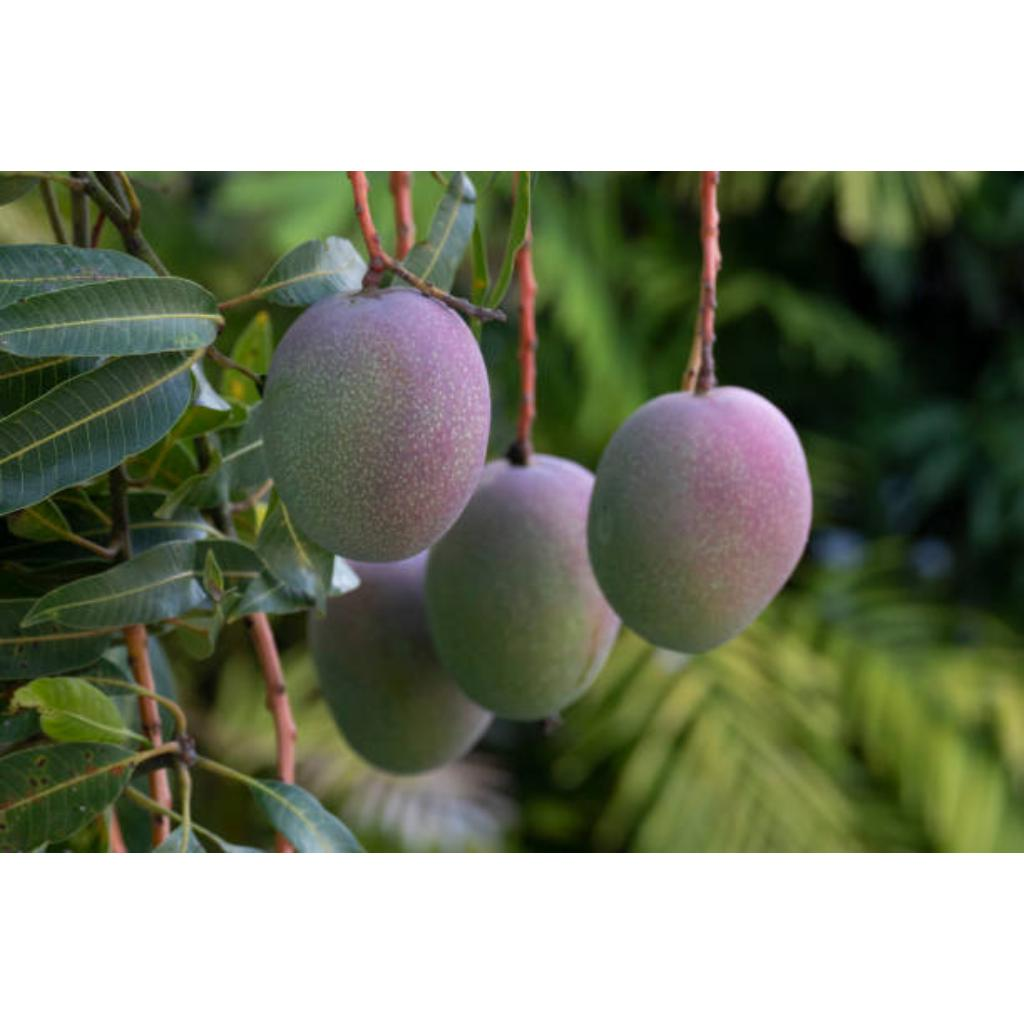mango: (588, 171, 812, 652), (264, 289, 490, 562), (426, 455, 620, 720), (308, 551, 492, 774)
